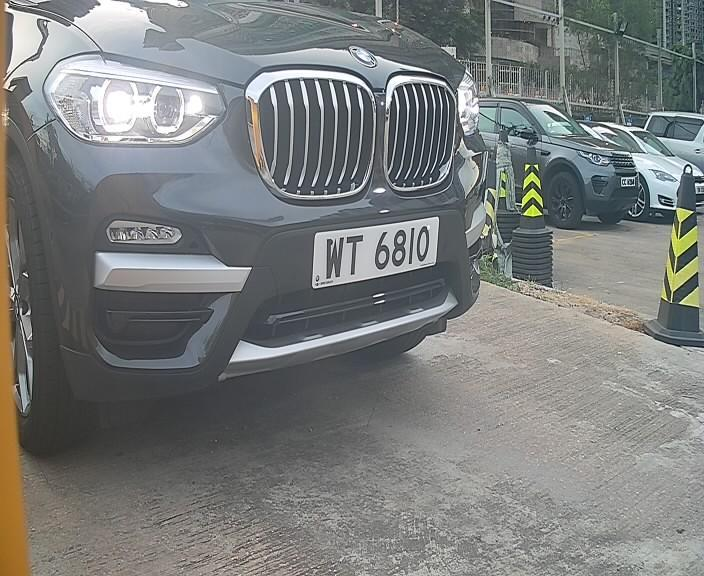privatecar: (16, 1, 516, 407)
